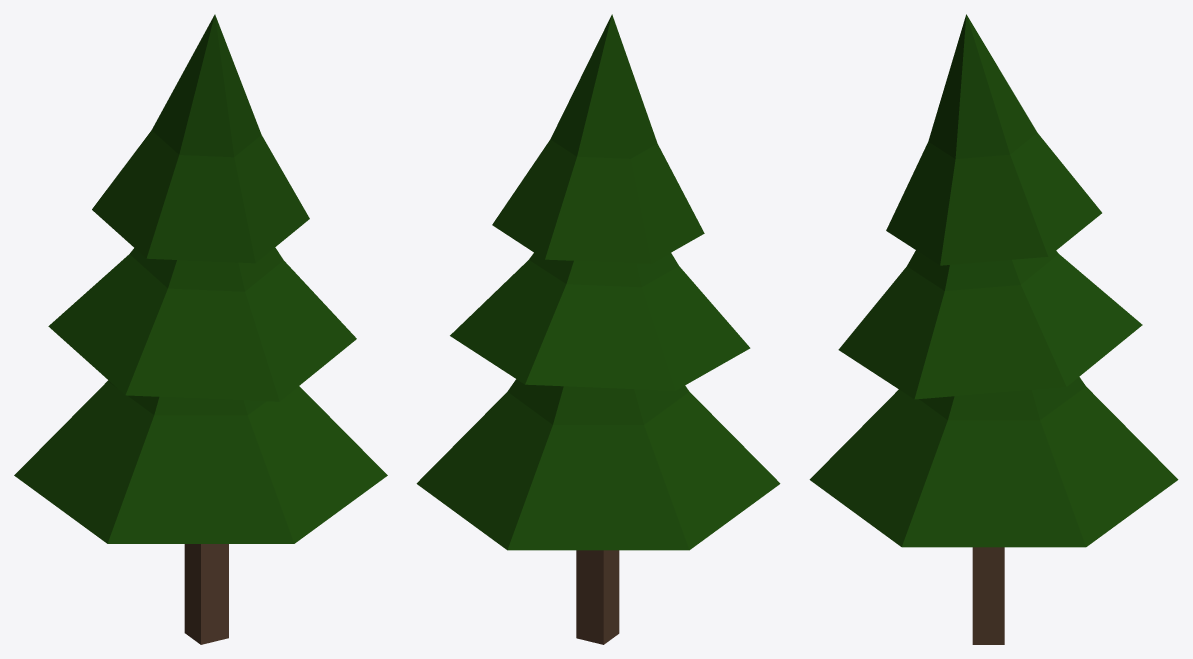
The model's file is SpruceV4.fbx.
The picture shows the model from 3 angles, left to right: view 1: azimuth 30°, elevation 25°; view 2: azimuth 150°, elevation 25°; view 3: azimuth 270°, elevation 25°; orthographic projection. The views are drawn at different scales.
Parts seen in each view (by area): view 1: Cube.004; view 2: Cube.004; view 3: Cube.004.
Boxes of the visible parts, bbox=[...] form: Cube.004: bbox=[14, 14, 387, 644]; Cube.004: bbox=[416, 14, 780, 644]; Cube.004: bbox=[809, 14, 1178, 644].
Size of the model in its own units: 167 by 358 by 193.
